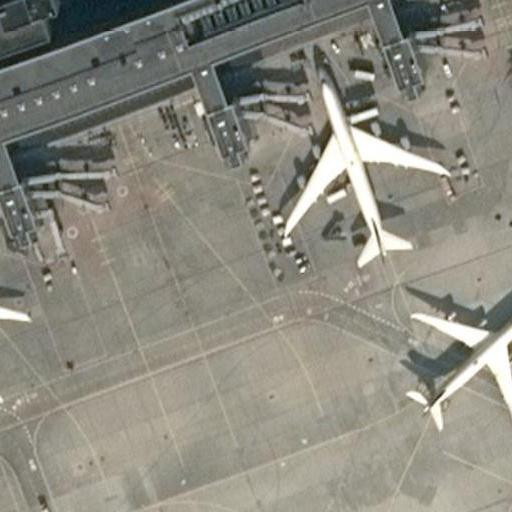Aircraft: (277, 72, 458, 266), (394, 284, 512, 437), (0, 215, 35, 424)
